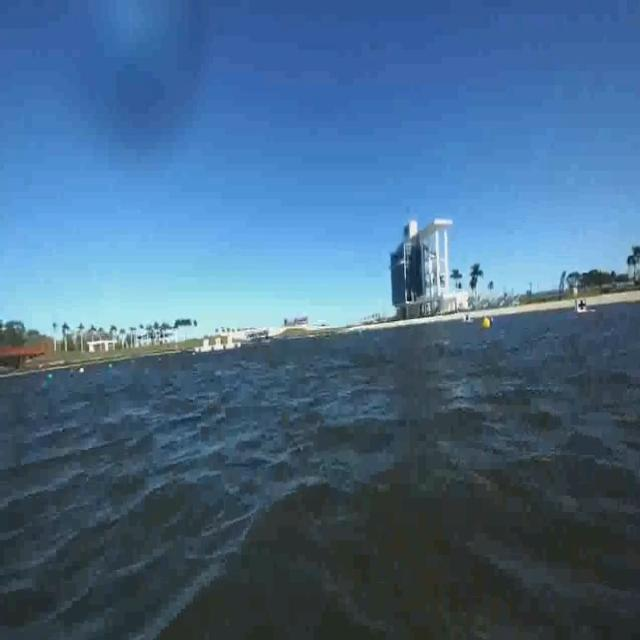yellow-buoy: (483, 316, 492, 331)
